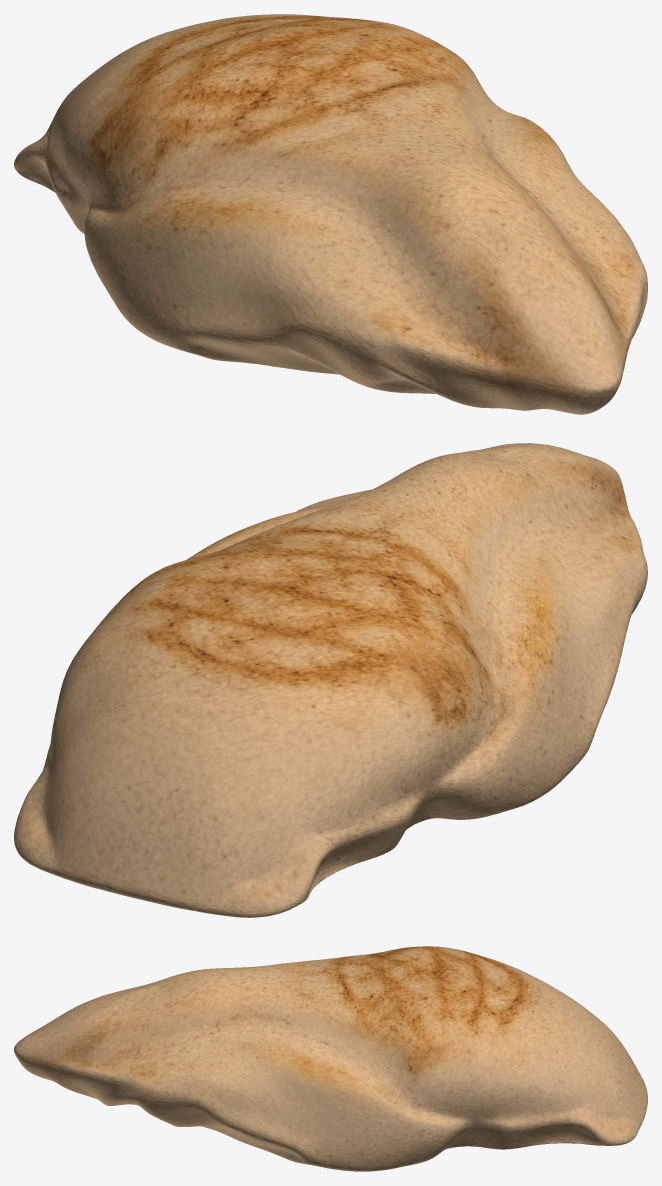
The model's file is Pollo_Cocido.fbx.
3 views of the same model, one above another, from view 1: azimuth 30°, elevation 25°; view 2: azimuth 150°, elevation 25°; view 3: azimuth 270°, elevation 25° (orthographic). The views are drawn at different scales.
Visible parts, largest first — view 1: Mesh_0; view 2: Mesh_0; view 3: Mesh_0.
Boxes of the visible parts, left/top/right/bottom form: Mesh_0: left=14, top=14, right=647, bottom=414; Mesh_0: left=14, top=443, right=647, bottom=917; Mesh_0: left=14, top=946, right=647, bottom=1171.
Bounding box in the file's own units: 97.52 × 44.8 × 190.
1 material, 1 textured.
